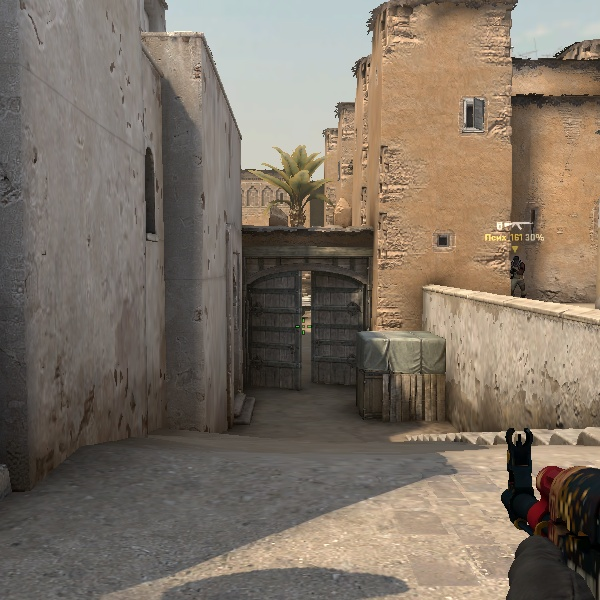t_body: (510, 253, 526, 297)
t_head: (512, 254, 521, 266)
